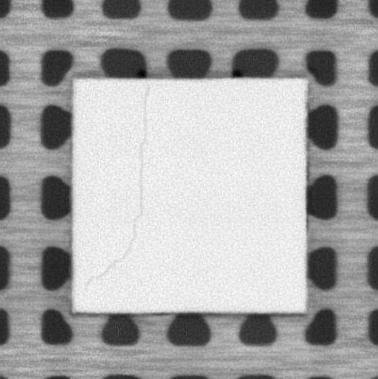DIE_CRACK: (83, 85, 150, 287)
